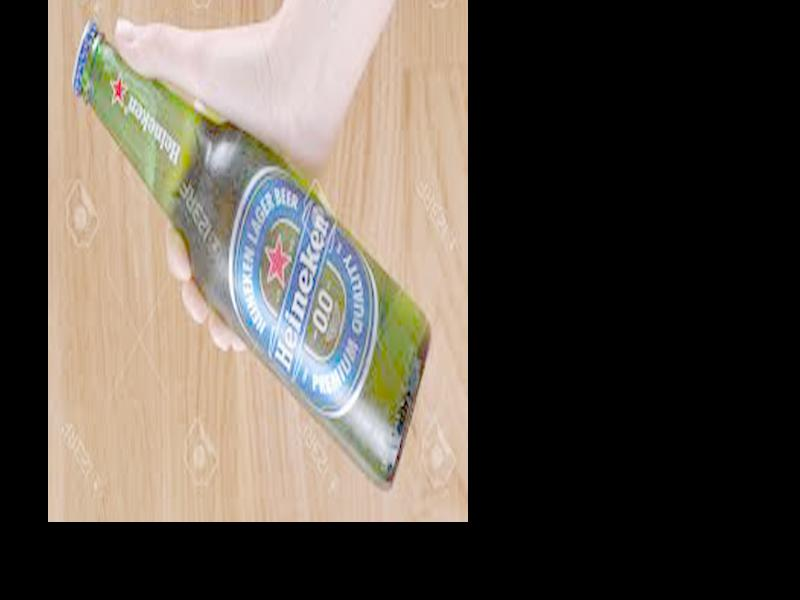Beer: (71, 22, 433, 488)
